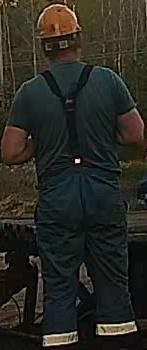helmet: (34, 3, 82, 44)
